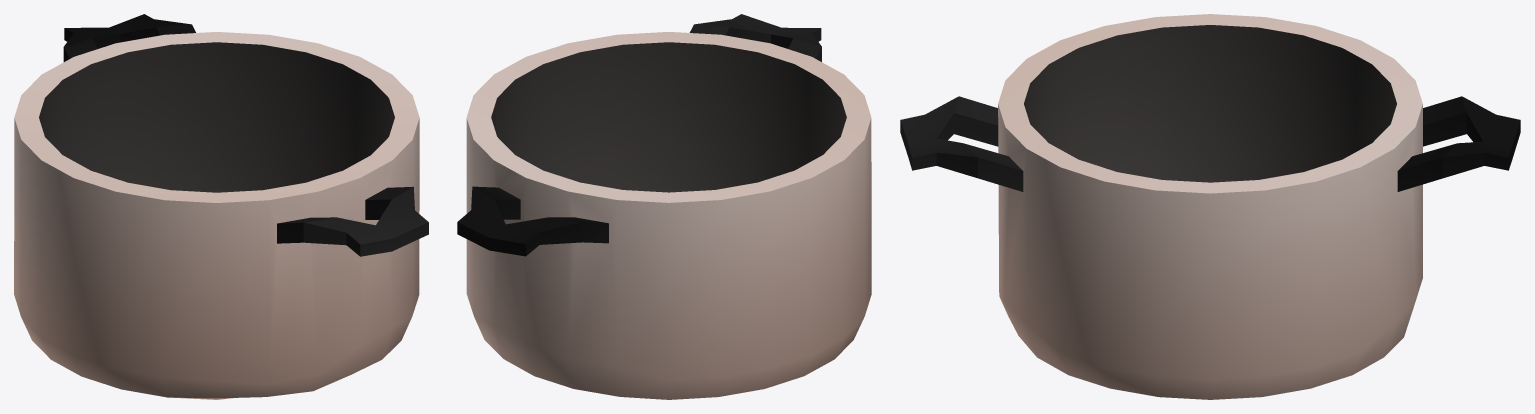
File: Small Pot.fbx
The picture shows the model from 3 angles, left to right: view 1: azimuth 30°, elevation 25°; view 2: azimuth 150°, elevation 25°; view 3: azimuth 270°, elevation 25°; orthographic projection. The views are drawn at different scales.
Visible parts, largest first — view 1: Pot Small; view 2: Pot Small; view 3: Pot Small.
Part boxes in pixels (<box>): Pot Small: <box>14,14,428,399</box>; Pot Small: <box>457,14,871,399</box>; Pot Small: <box>900,14,1520,399</box>.
Bounding box in the file's own units: 200 × 116 × 292.
